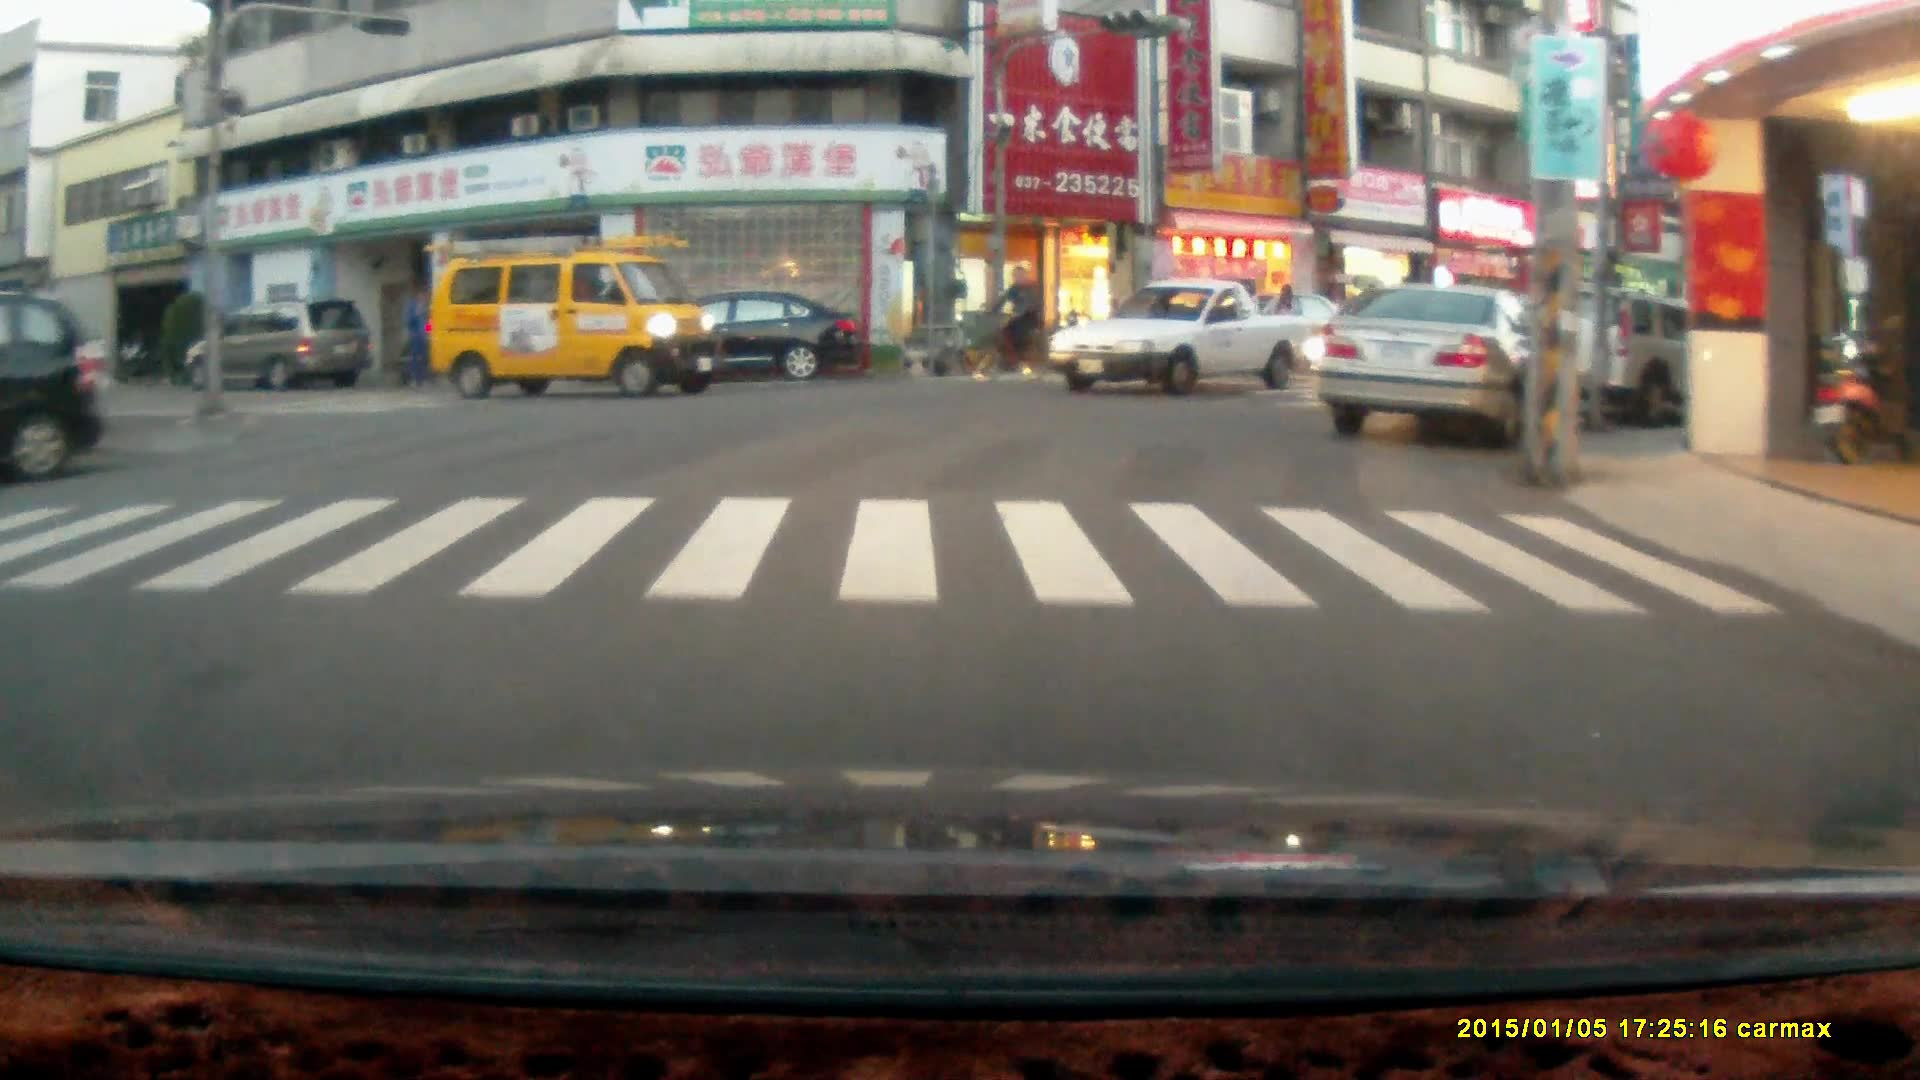pedestrian: (402, 283, 434, 381)
rider: (963, 260, 1049, 382)
vehicle: (429, 233, 717, 402), (1314, 282, 1567, 449), (1512, 286, 1762, 434), (1046, 272, 1320, 405), (627, 297, 864, 387), (184, 298, 375, 395), (4, 300, 103, 472)
